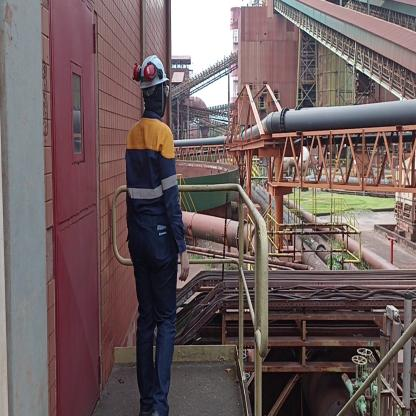Balaclava: (142, 88, 169, 116)
Capacete: (135, 49, 170, 88)
Operacional: (126, 119, 181, 221)
